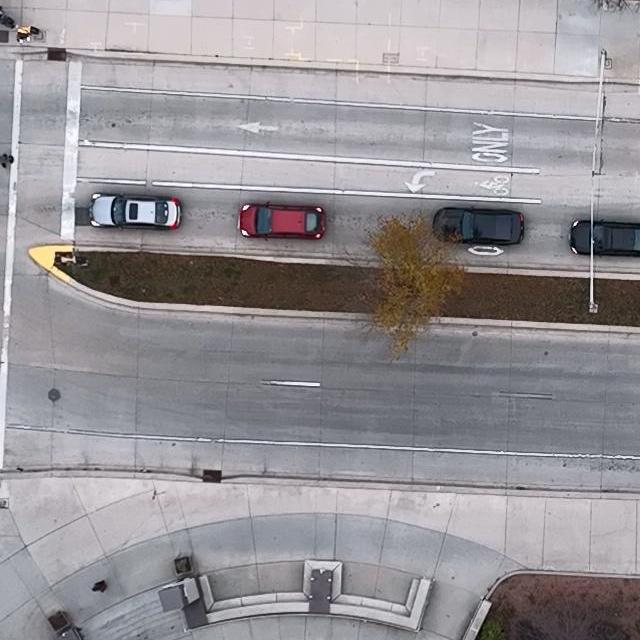car: (433, 207, 524, 246), (88, 192, 182, 229), (240, 202, 325, 242), (569, 217, 640, 258)
